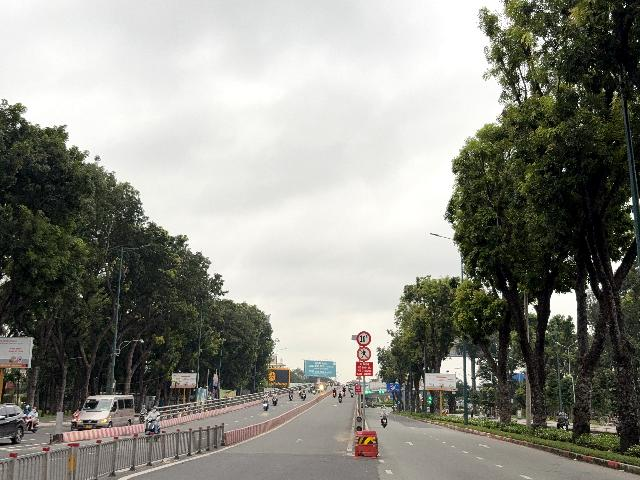cam-nguoi-di-bo: (357, 346, 371, 362)
han-che-trong-luong-xe: (356, 331, 371, 346)
